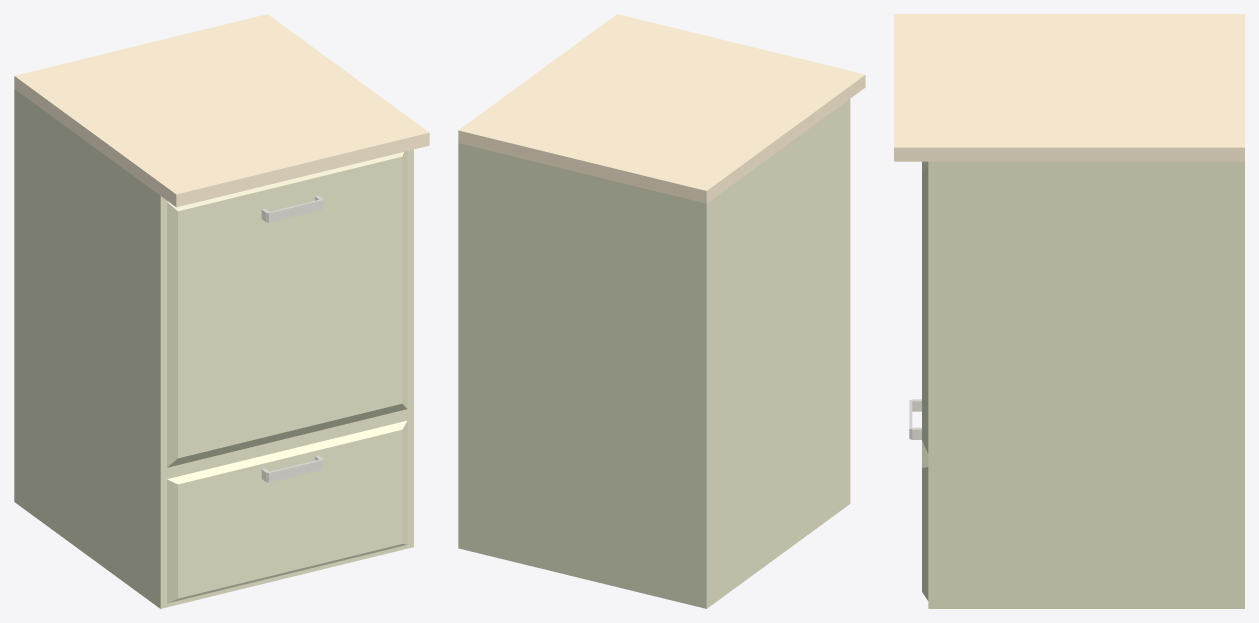
The model's file is q-kitchen-2drawers.glb.
3 views of the same model, side by side, from view 1: azimuth 30°, elevation 25°; view 2: azimuth 150°, elevation 25°; view 3: azimuth 270°, elevation 25° (orthographic). The views are drawn at different scales.
Visible parts, largest first — view 1: Kitchen_2Drawers; view 2: Kitchen_2Drawers; view 3: Kitchen_2Drawers.
Boxes of the visible parts, bbox=[...] form: Kitchen_2Drawers: bbox=[14, 14, 429, 608]; Kitchen_2Drawers: bbox=[458, 14, 865, 608]; Kitchen_2Drawers: bbox=[894, 14, 1244, 608].
Size of the model in its own units: 1.01 by 1.62 by 1.12.
